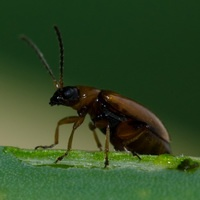insect: (21, 26, 169, 166)
